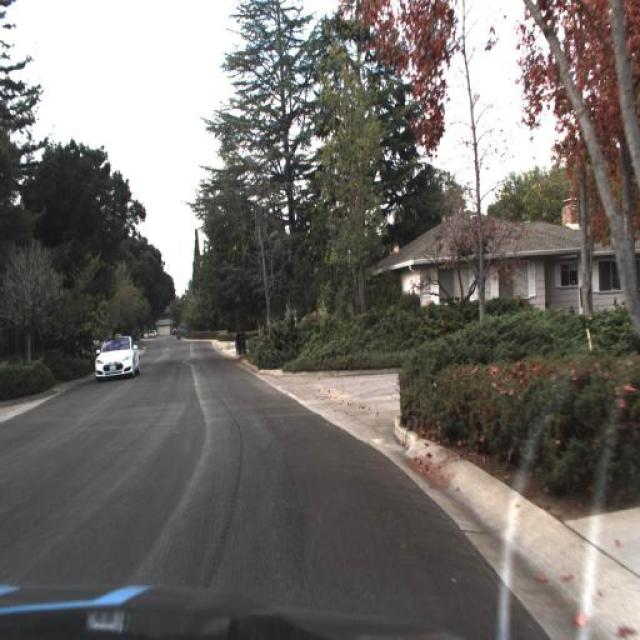car: (95, 334, 139, 382)
